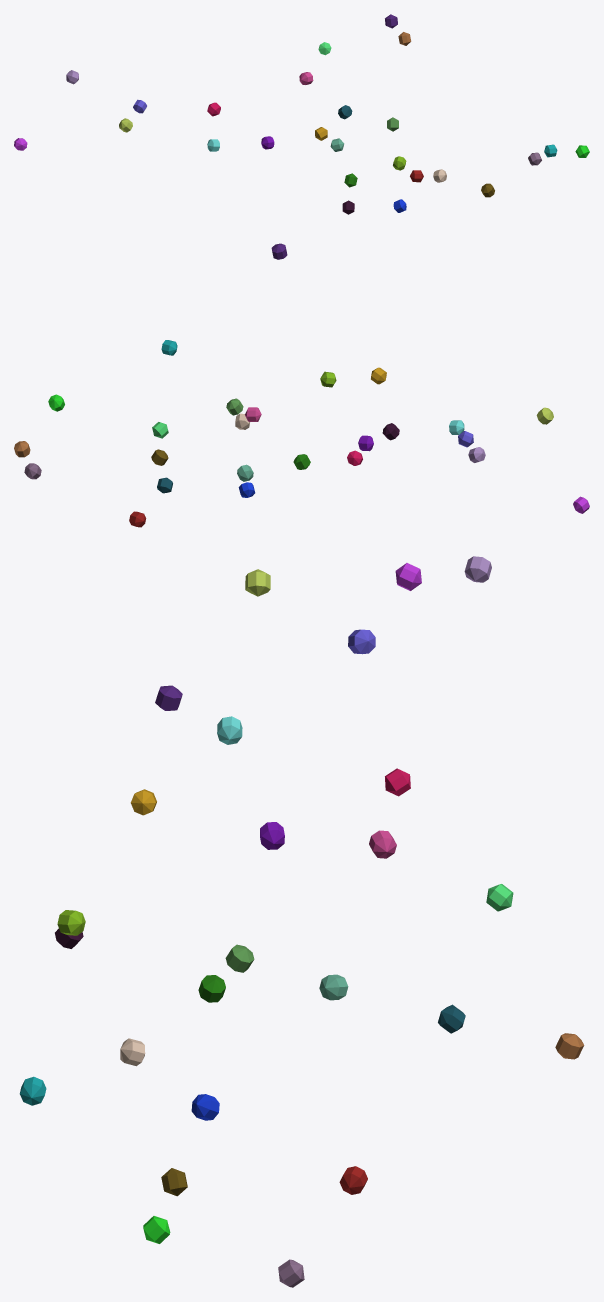
The model's file is fg-00030-bone.obj.
3 views of the same model, one above another, from view 1: azimuth 30°, elevation 25°; view 2: azimuth 150°, elevation 25°; view 3: azimuth 270°, elevation 25° (orthographic). The views are drawn at different scales.
Bounding box in the file's own units: 0.4029 × 0.1648 × 0.1928.
